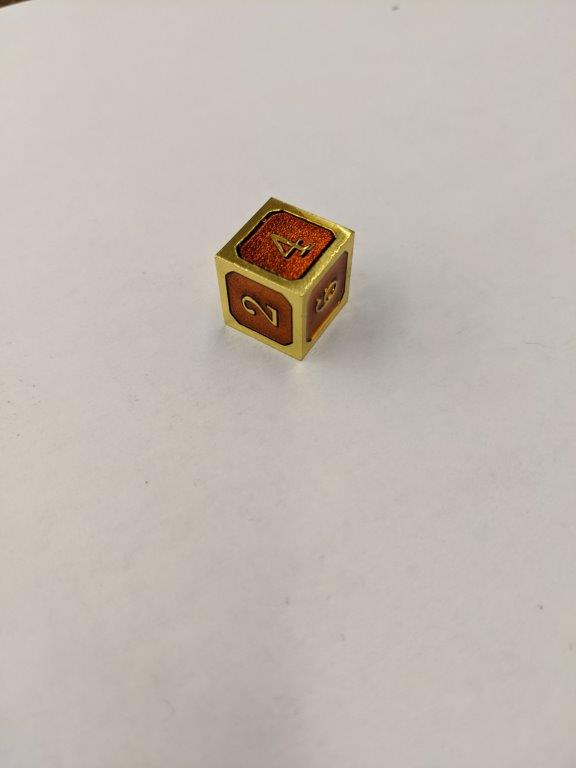d6-4: (214, 194, 356, 361)
